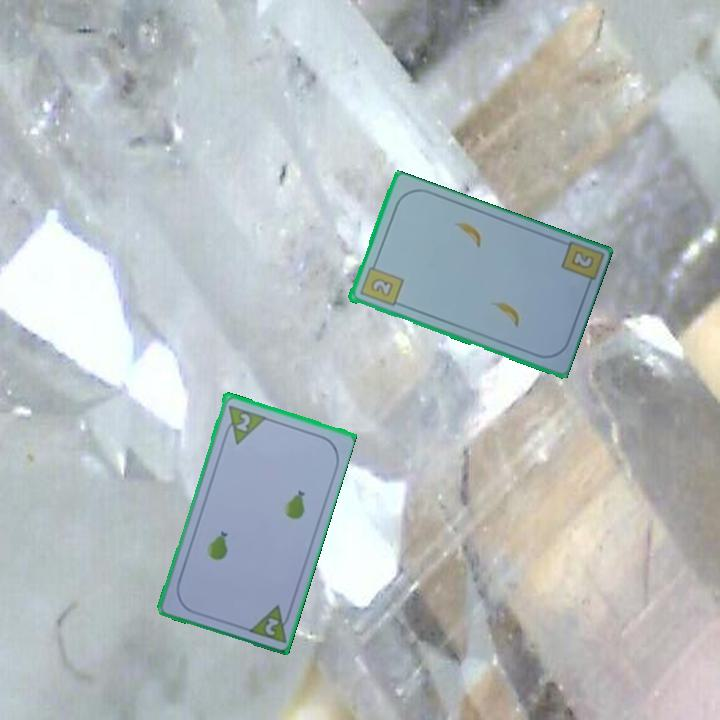2b: (356, 258, 406, 309), (567, 247, 597, 272)
2p: (244, 600, 295, 646), (232, 409, 253, 434)
